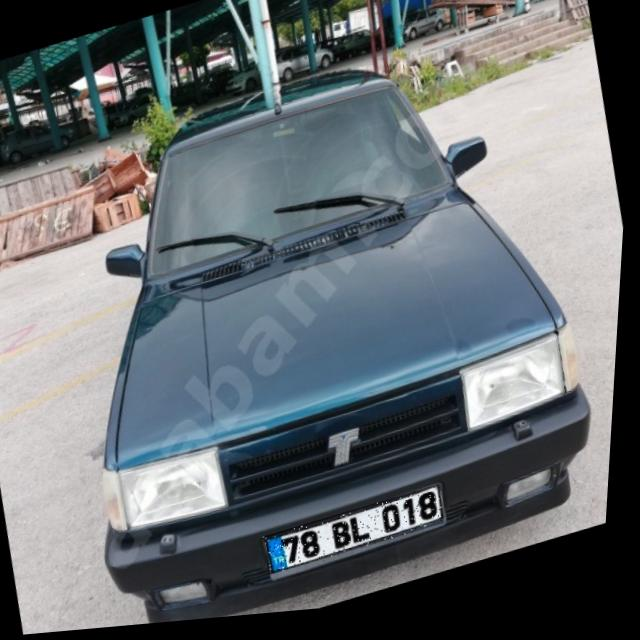license_plate: (268, 492, 453, 581)
